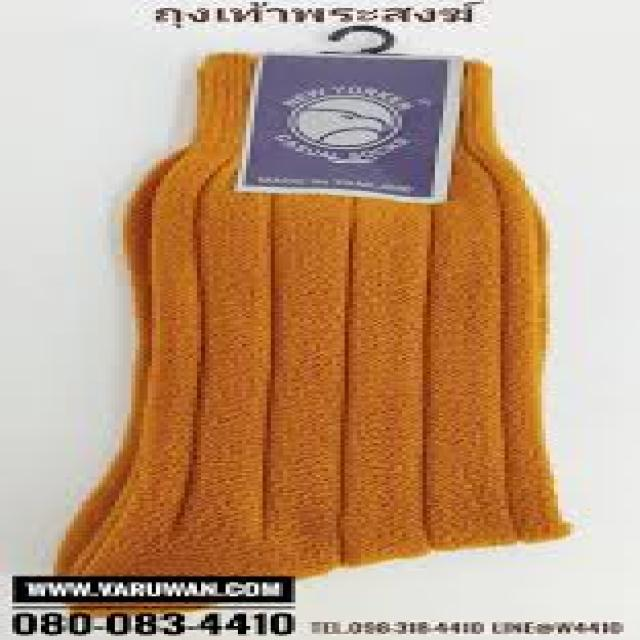sock: (53, 50, 570, 604)
